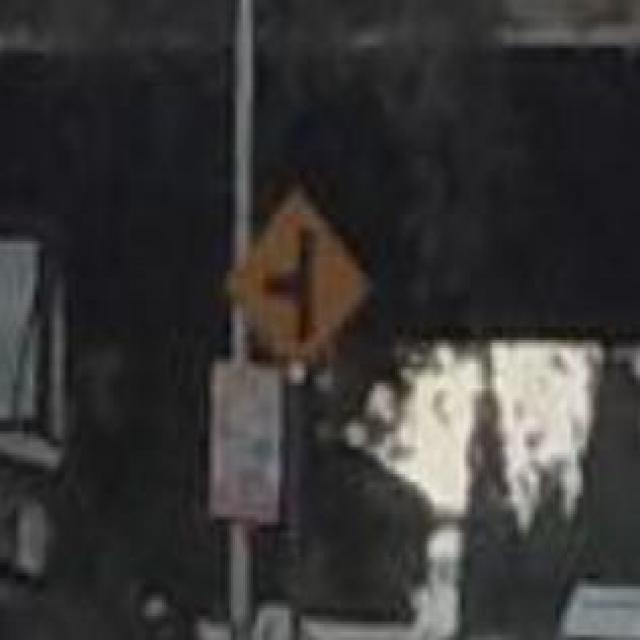traffic sign: (241, 193, 370, 367)
